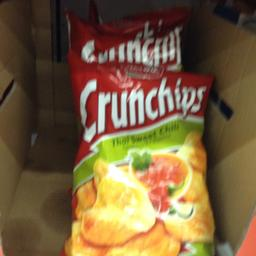chips: (66, 54, 214, 255)
